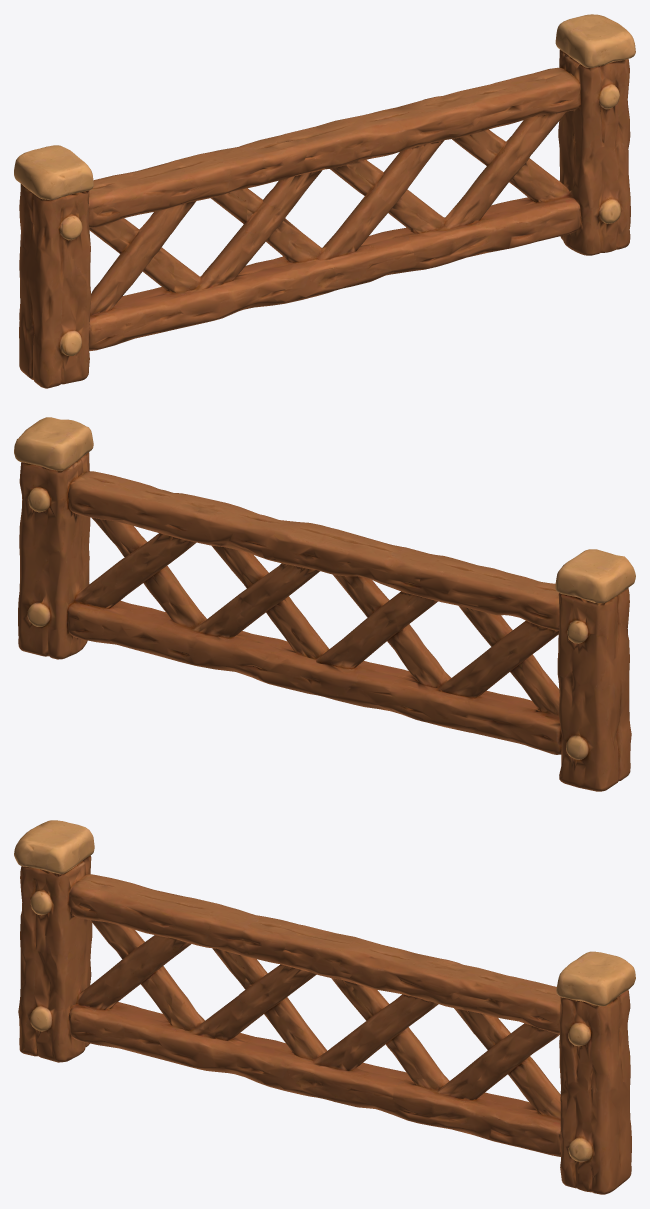
The model's file is trellis-fence-panel.glb.
3 renders of one model, top to bottom at view 1: azimuth 30°, elevation 25°; view 2: azimuth 150°, elevation 25°; view 3: azimuth 330°, elevation 25°, orthographic.
Bounding box in the file's own units: 1.9 × 0.662 × 0.2102.
1 material, 1 textured.
